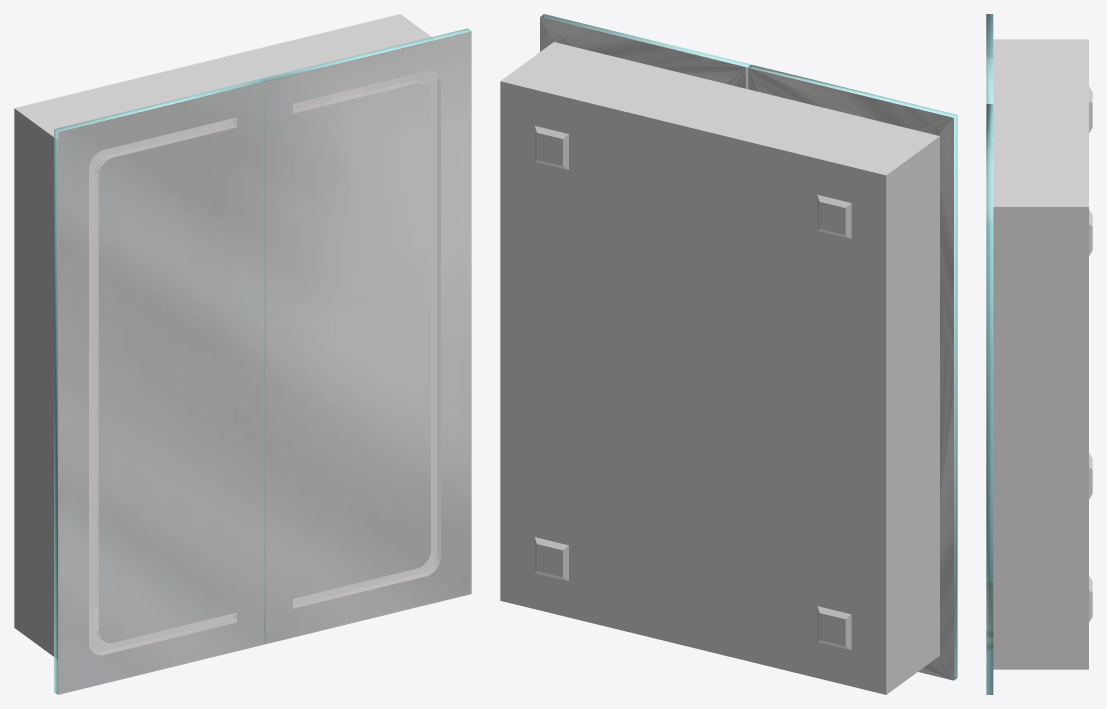
The model's file is co-bathroom-cupboard-mirror.glb.
3 views of the same model, side by side, from view 1: azimuth 30°, elevation 25°; view 2: azimuth 150°, elevation 25°; view 3: azimuth 270°, elevation 25° (orthographic). The views are drawn at different scales.
Parts seen in each view (by area): view 1: sweethome3d_window_mirror_15, sweethome3d_window_mirror_10, sh3d-rotation, sweethome3d_window_mirror_14, sweethome3d_window_mirror_9; view 2: sh3d-rotation, sweethome3d_window_mirror_12, sweethome3d_window_mirror_7, sweethome3d_window_mirror_14, sweethome3d_window_mirror_9; view 3: sh3d-rotation, sweethome3d_window_mirror_9, sweethome3d_window_mirror_14.
Part boxes in pixels (x1,y1,x2,y2): sweethome3d_window_mirror_15: (58, 82, 264, 694); sweethome3d_window_mirror_10: (265, 31, 471, 644); sh3d-rotation: (14, 14, 440, 658); sweethome3d_window_mirror_14: (54, 79, 263, 694); sweethome3d_window_mirror_9: (261, 28, 471, 643); sh3d-rotation: (500, 42, 939, 694); sweethome3d_window_mirror_12: (747, 67, 953, 680); sweethome3d_window_mirror_7: (540, 17, 746, 88); sweethome3d_window_mirror_14: (747, 64, 957, 680); sweethome3d_window_mirror_9: (540, 14, 750, 88); sh3d-rotation: (987, 39, 1092, 669); sweethome3d_window_mirror_9: (986, 104, 993, 694); sweethome3d_window_mirror_14: (986, 14, 993, 103).
Size of the model in its own units: 0.6 by 0.78 by 0.15.
Materials: 4 (1 with a texture image).
